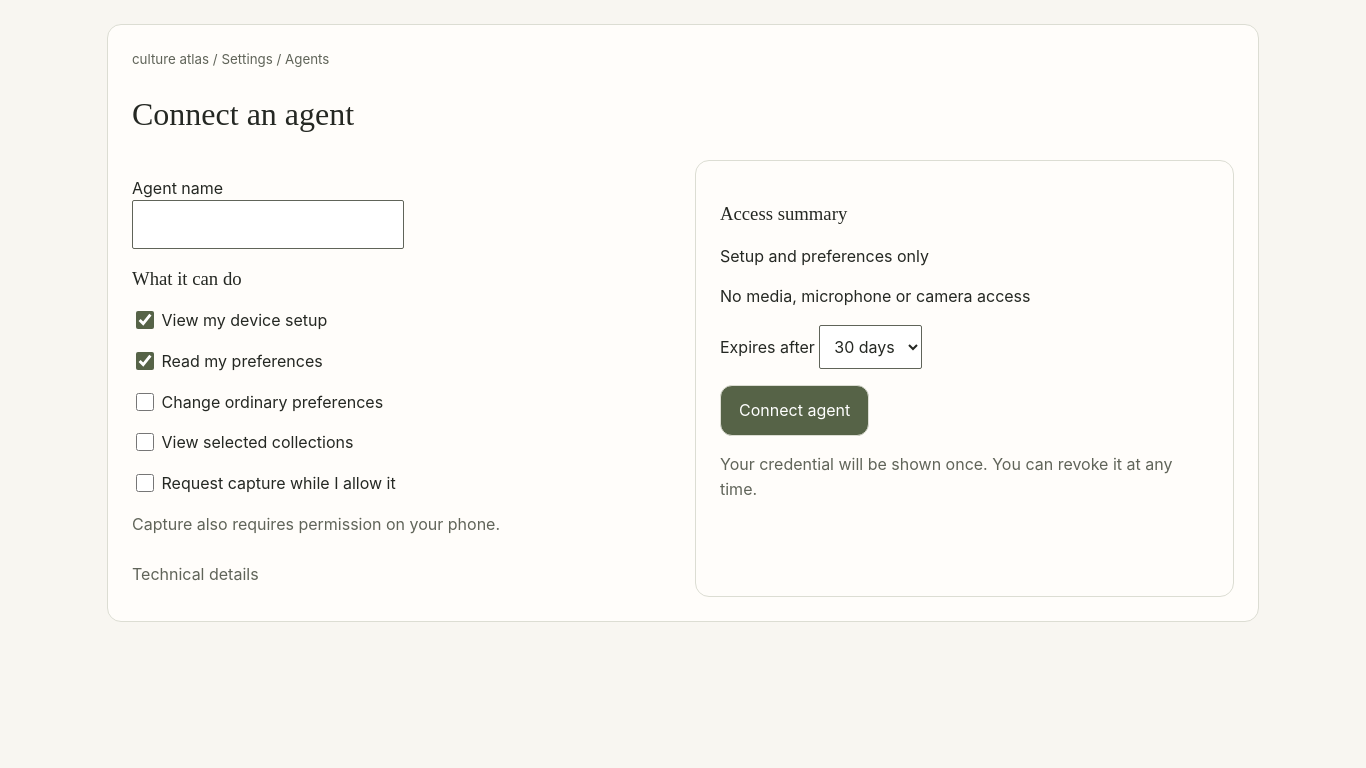
Scenario: agent consent interface (screen 11) › requires an explicit phone for capture requests
This screenshot has width=1366, height=768.
Click the checkbox labelled "Request capture while I allow it" at (145, 483), box [136, 474, 154, 492]
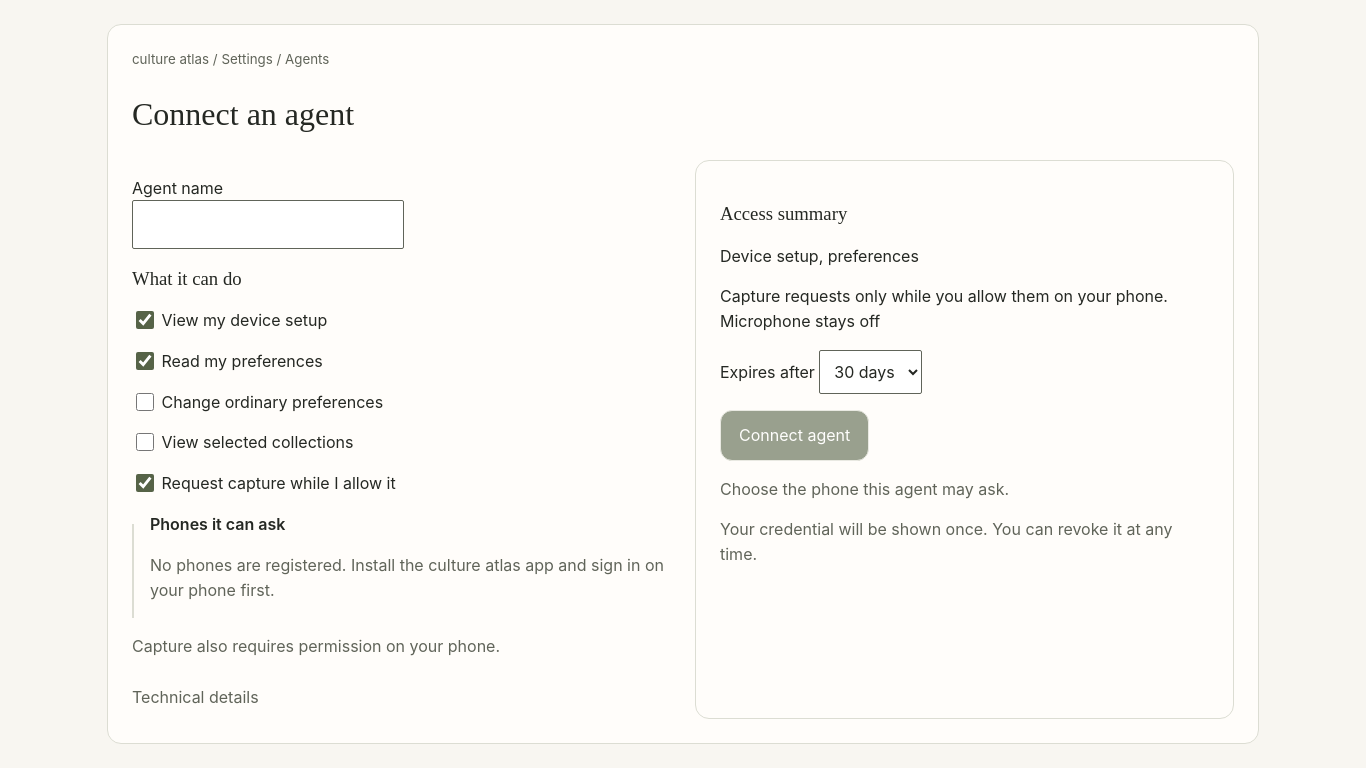
expect the button "Connect agent" is disabled: met, box [720, 410, 869, 461]
expect the text "Choose the phone this agent may ask." is shown: met, box [720, 479, 1009, 499]
